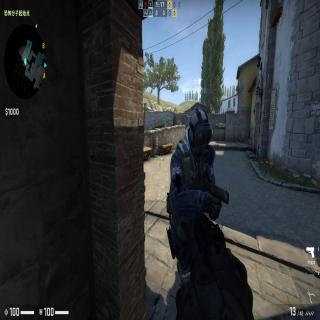CT-Head: (187, 109, 212, 160)
